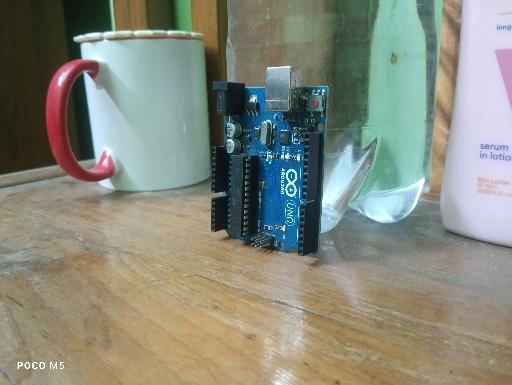Arduino: (207, 63, 330, 258)
